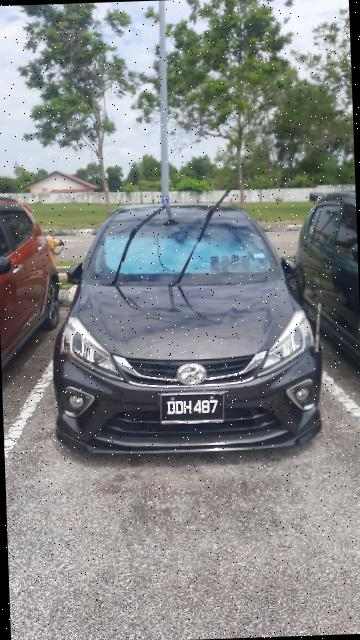License_Plate: (149, 385, 227, 434)
car: (46, 191, 332, 470)
